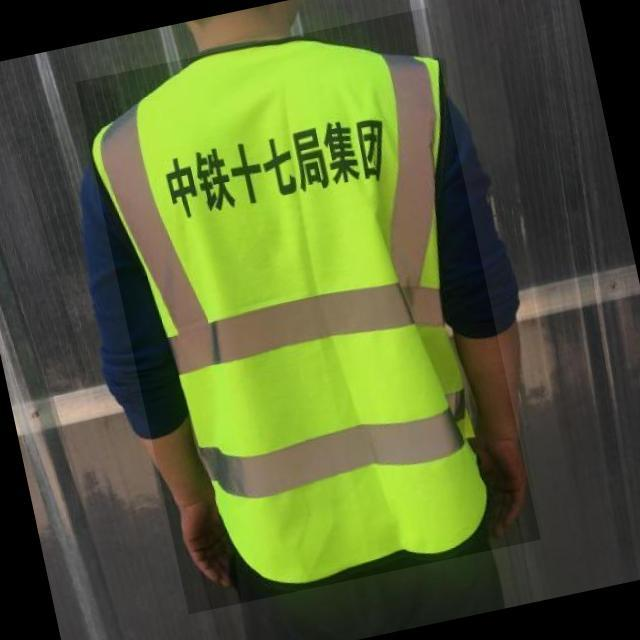Safety Vest: (76, 7, 541, 614)
